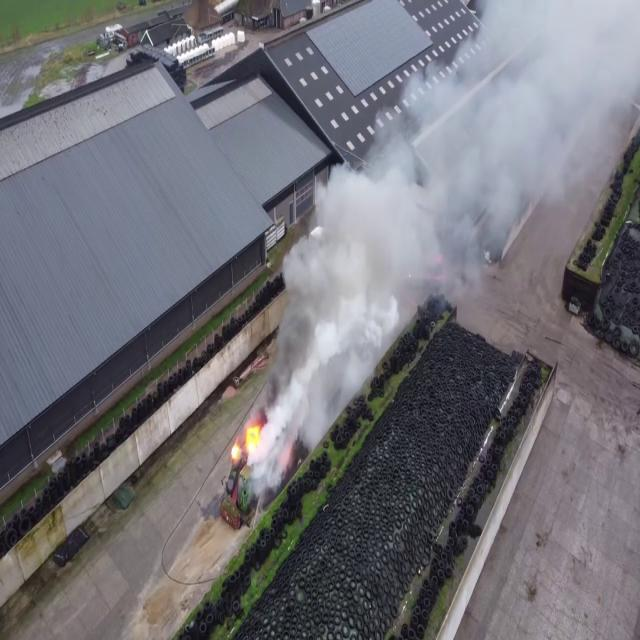Fire: (230, 410, 264, 466)
Smoke: (255, 24, 513, 468)
